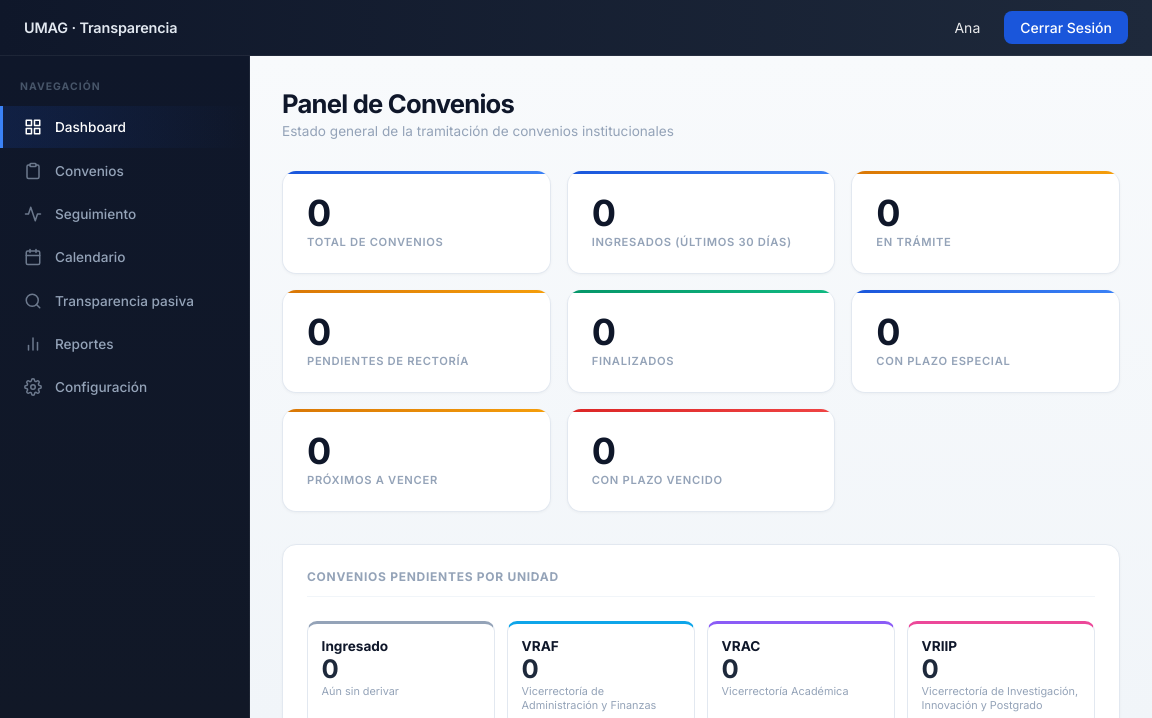
it: filtros del listado de convenios › volver desde una ficha SÍ conserva lo que se había filtrado
Click the text "Convenios" at coordinates (74, 171), box [24, 162, 124, 180]
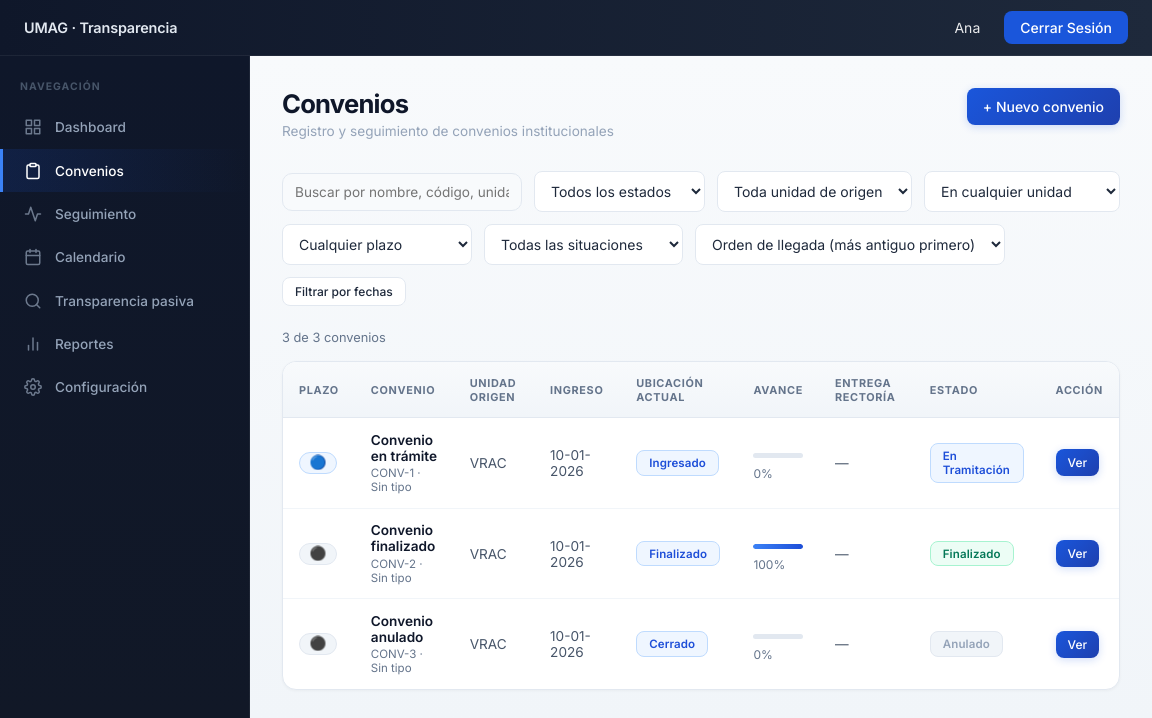
Type "anulado" into the field with placeholder "Buscar por nombre, código, unidad, contraparte..." at coordinates (402, 192), box [282, 172, 522, 210]
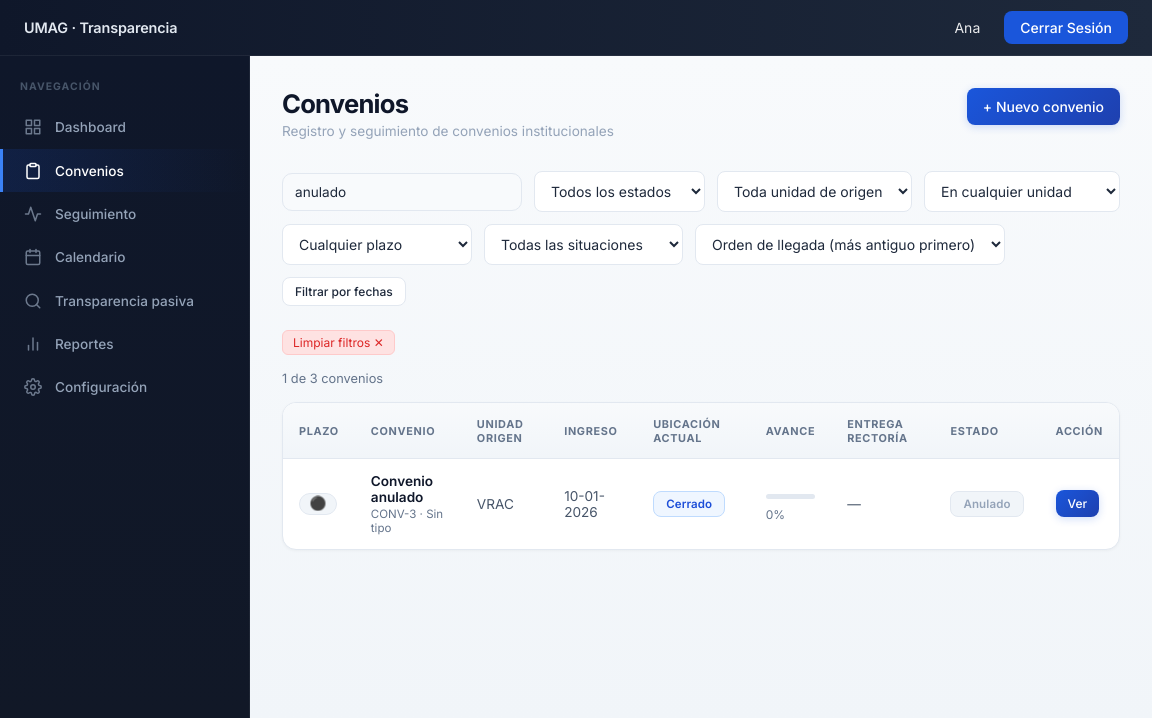
Expected: the text "1 de 3 convenios" is shown, [282, 371, 383, 386]
Click the button "Ver" at coordinates (1077, 504), box [1056, 490, 1099, 518]
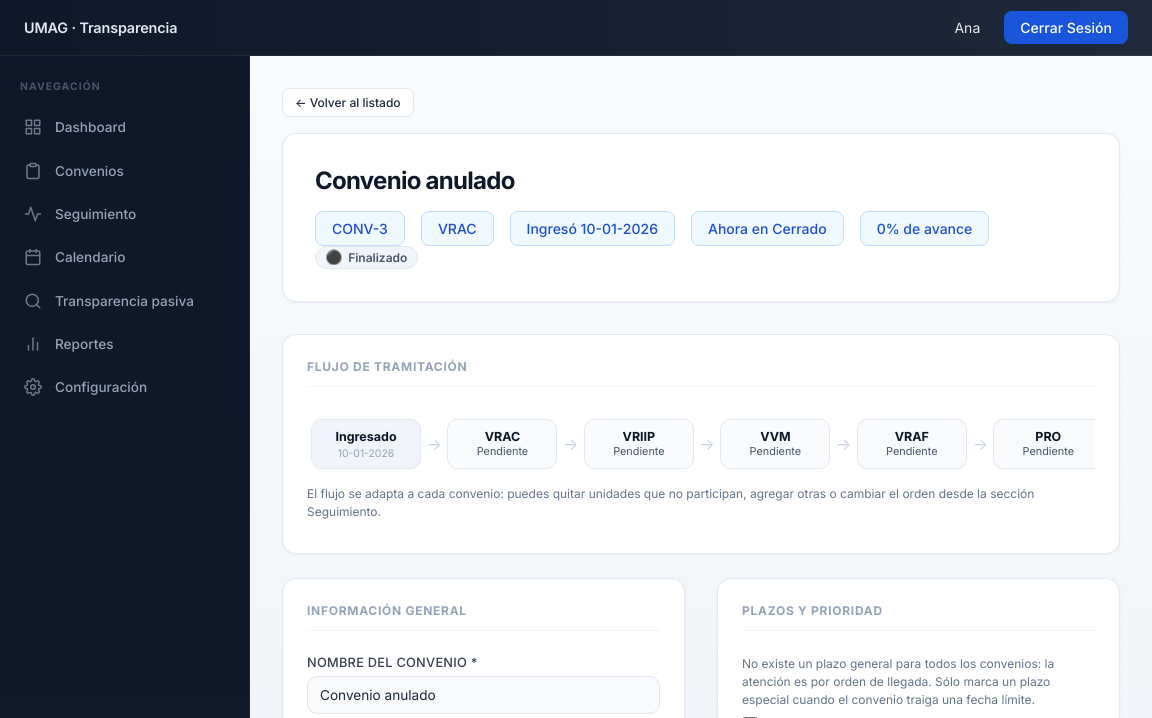
Expected: the heading "Flujo de tramitación" is shown, [307, 360, 1095, 388]
Click the button "← Volver al listado" at coordinates (348, 102), box [282, 88, 414, 117]
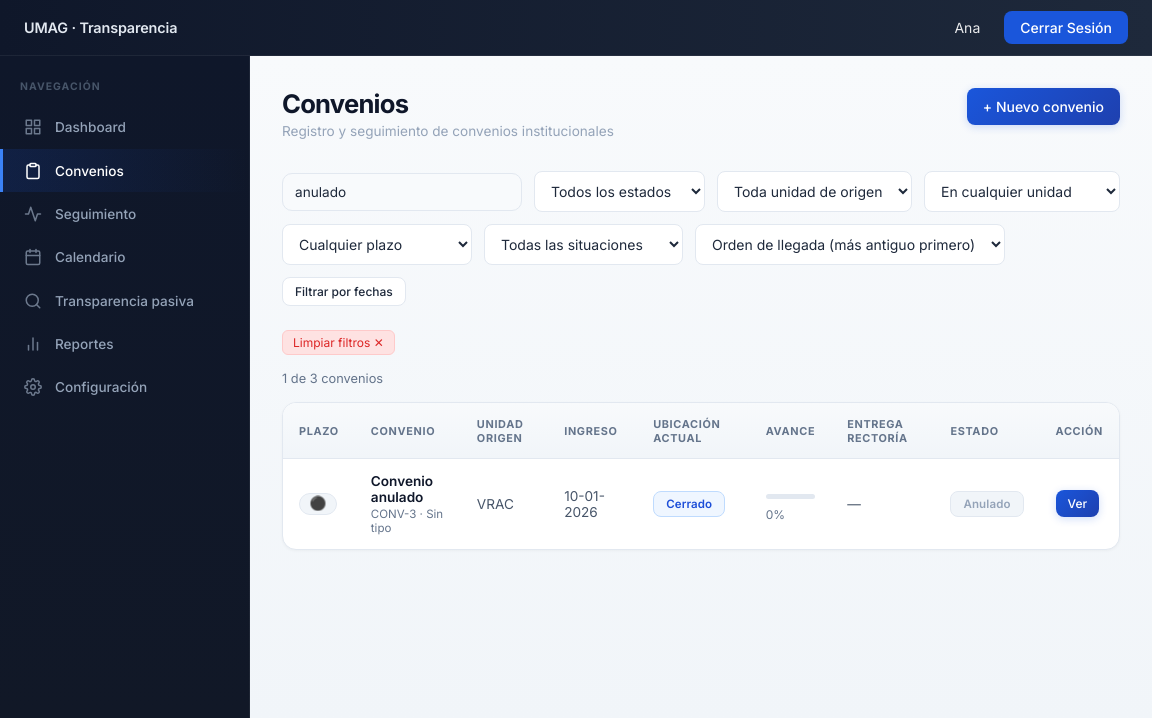
Expected: the field with placeholder "Buscar por nombre, código, unidad, contraparte..." holds "anulado", [282, 172, 522, 210]
Expected: the text "1 de 3 convenios" is shown, [282, 371, 383, 386]
